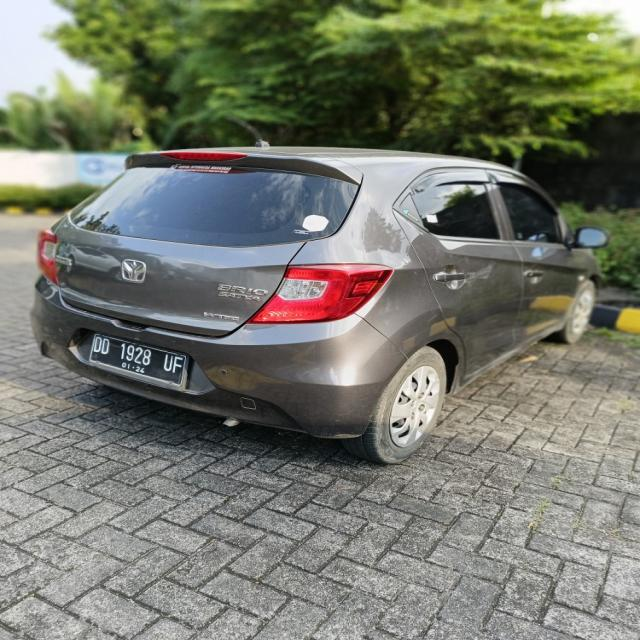plates: (75, 330, 190, 386)
